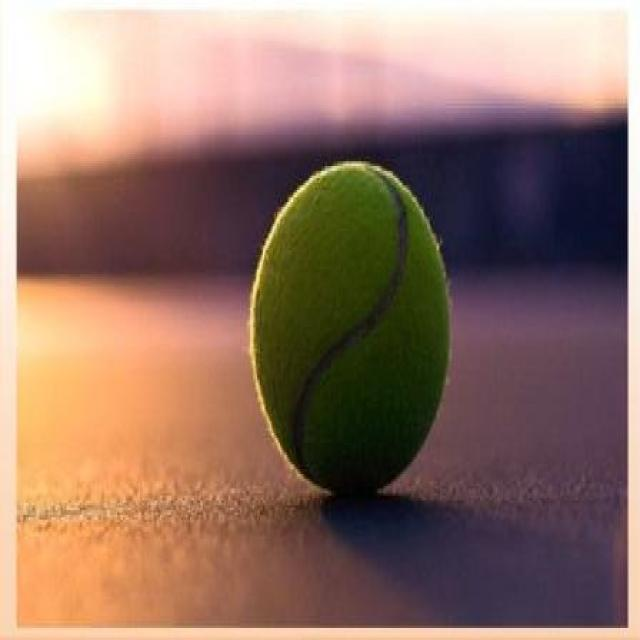Tennis Ball: (250, 164, 451, 493)
